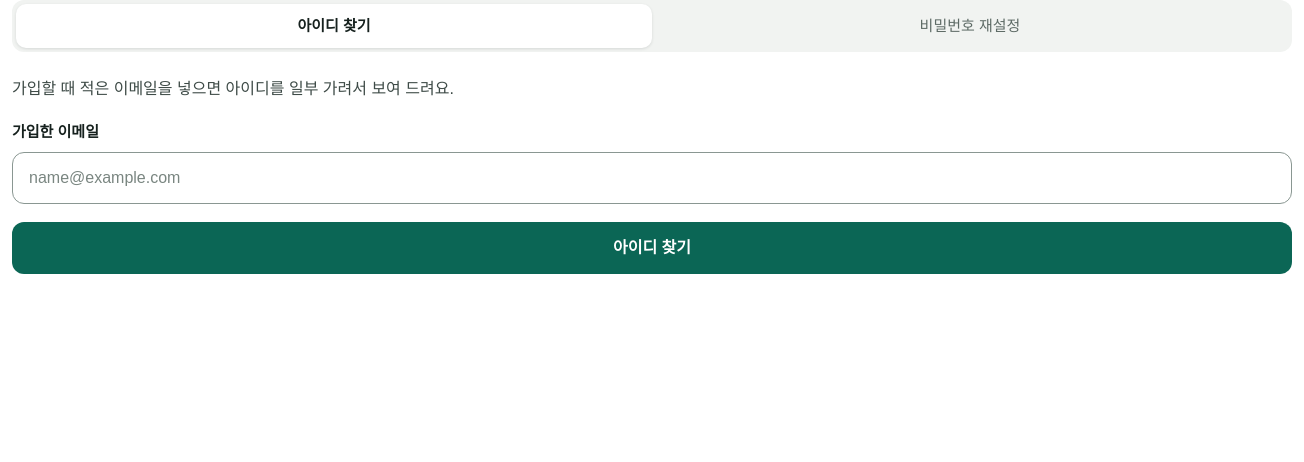
Test: AccountRecoveryForm — 비밀번호 재설정 (이름 + 휴대폰 인증) › TEST-PWRESET-UI-004: 인증 실패 {"error":"expired"}
Click the tab "비밀번호 재설정" at (970, 26), box [652,4,1288,48]
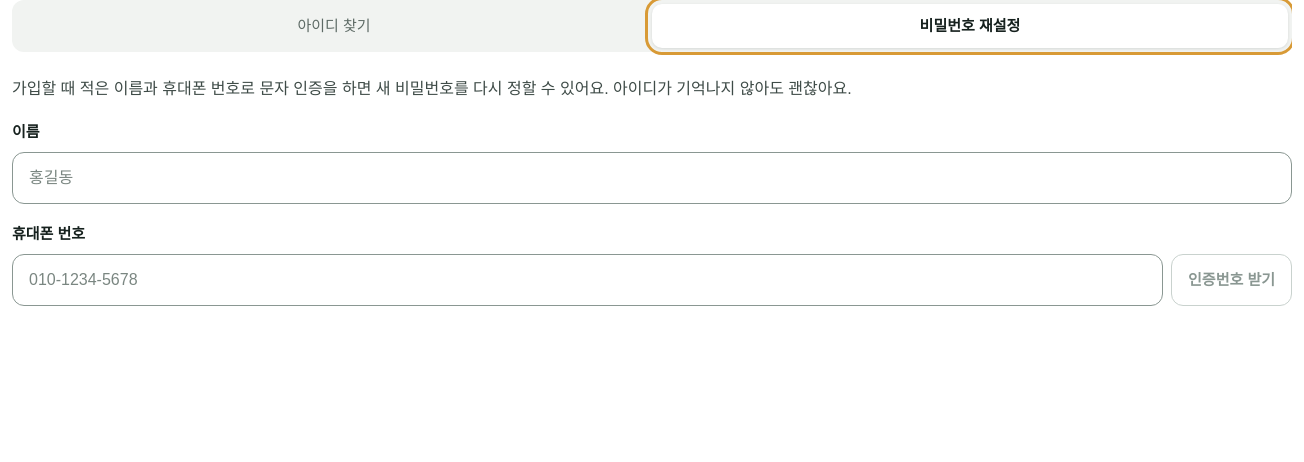
Type "정민선" into the field labelled "이름" at (652, 178), box [29,166,1275,190]
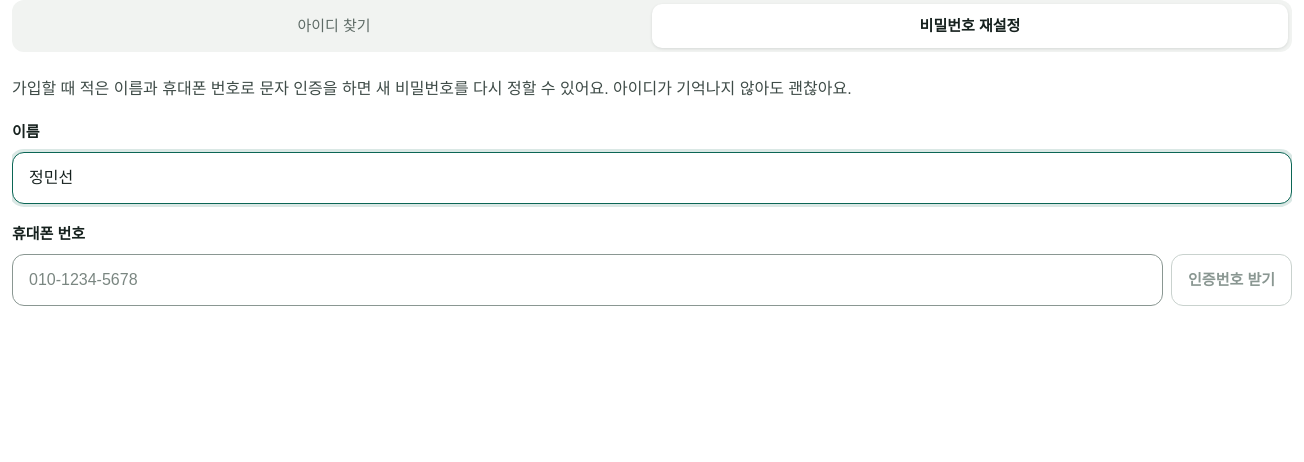
Type "01012345678" into the field labelled "휴대폰 번호" at (588, 280), box [29,268,1146,292]
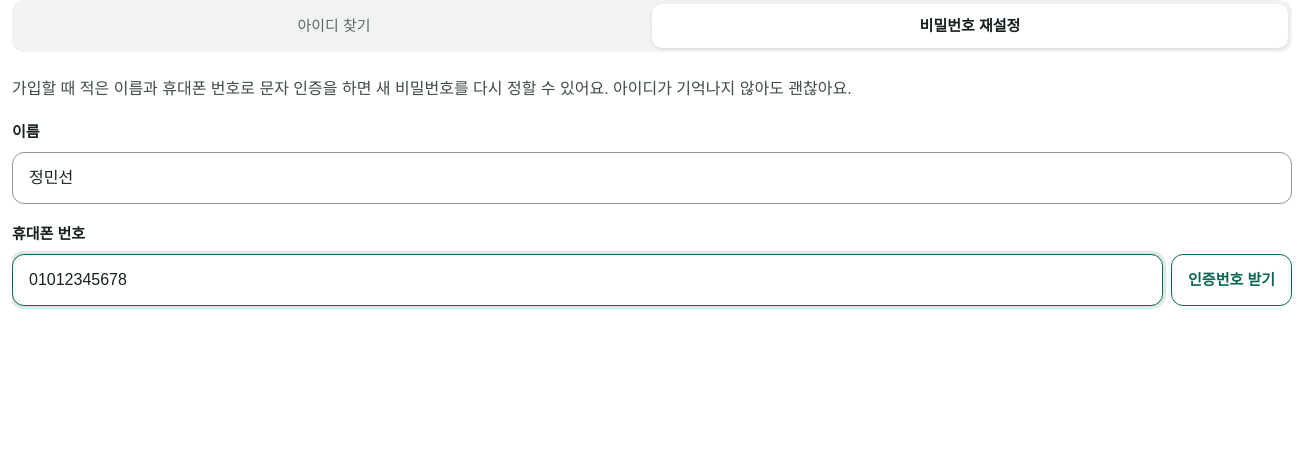
Click the button "인증번호 받기" at (1232, 280), box [1171,254,1292,306]
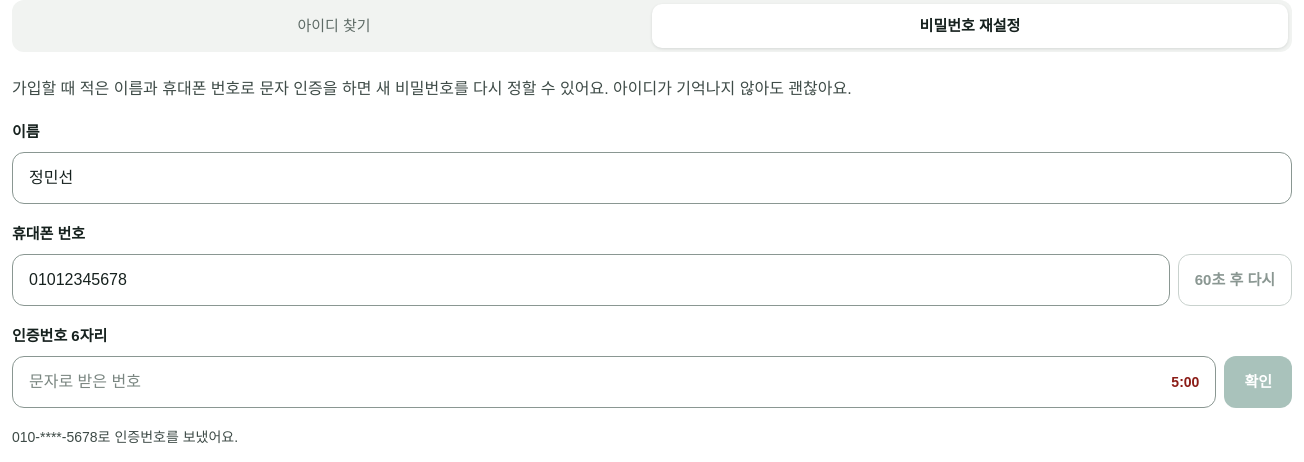
Type "000000" into the field labelled "인증번호 6자리" at (600, 382), box [29,370,1171,394]
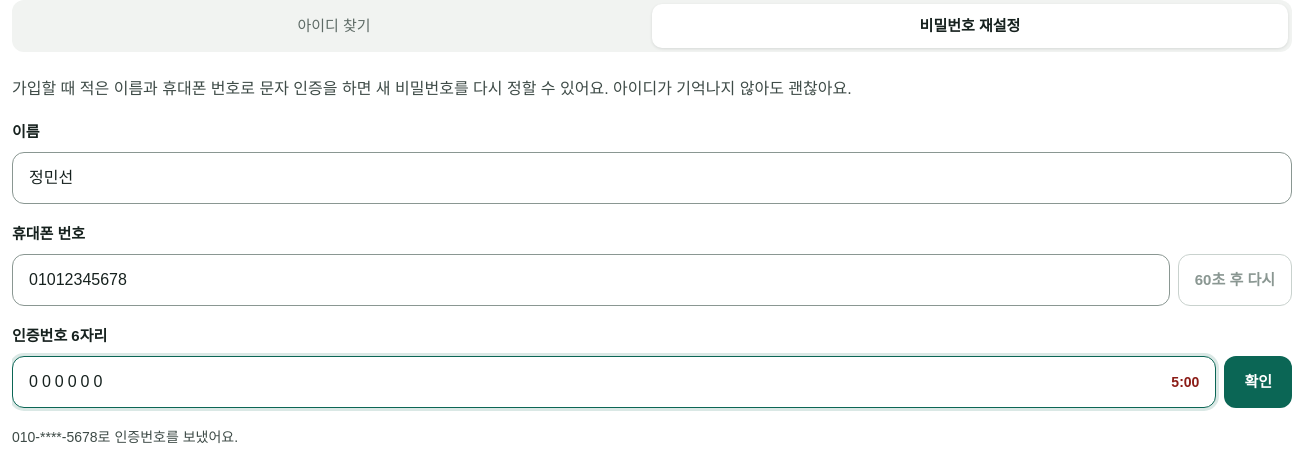
Click the button with aria-label "인증번호 확인" at (1258, 382), box [1224,356,1292,408]
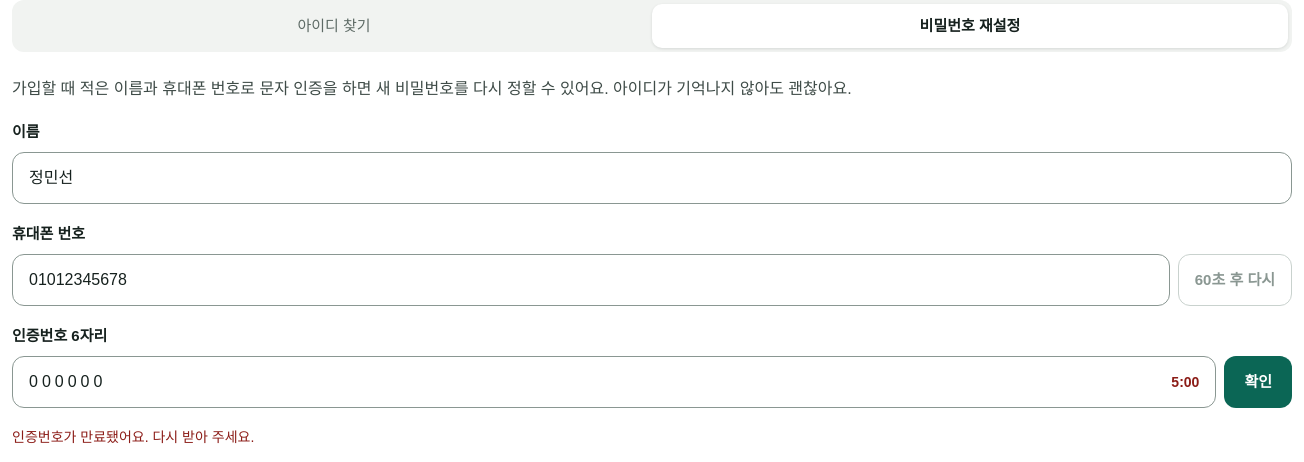
Now the message shows "인증번호가 만료됐어요.", box [12,429,254,445]
